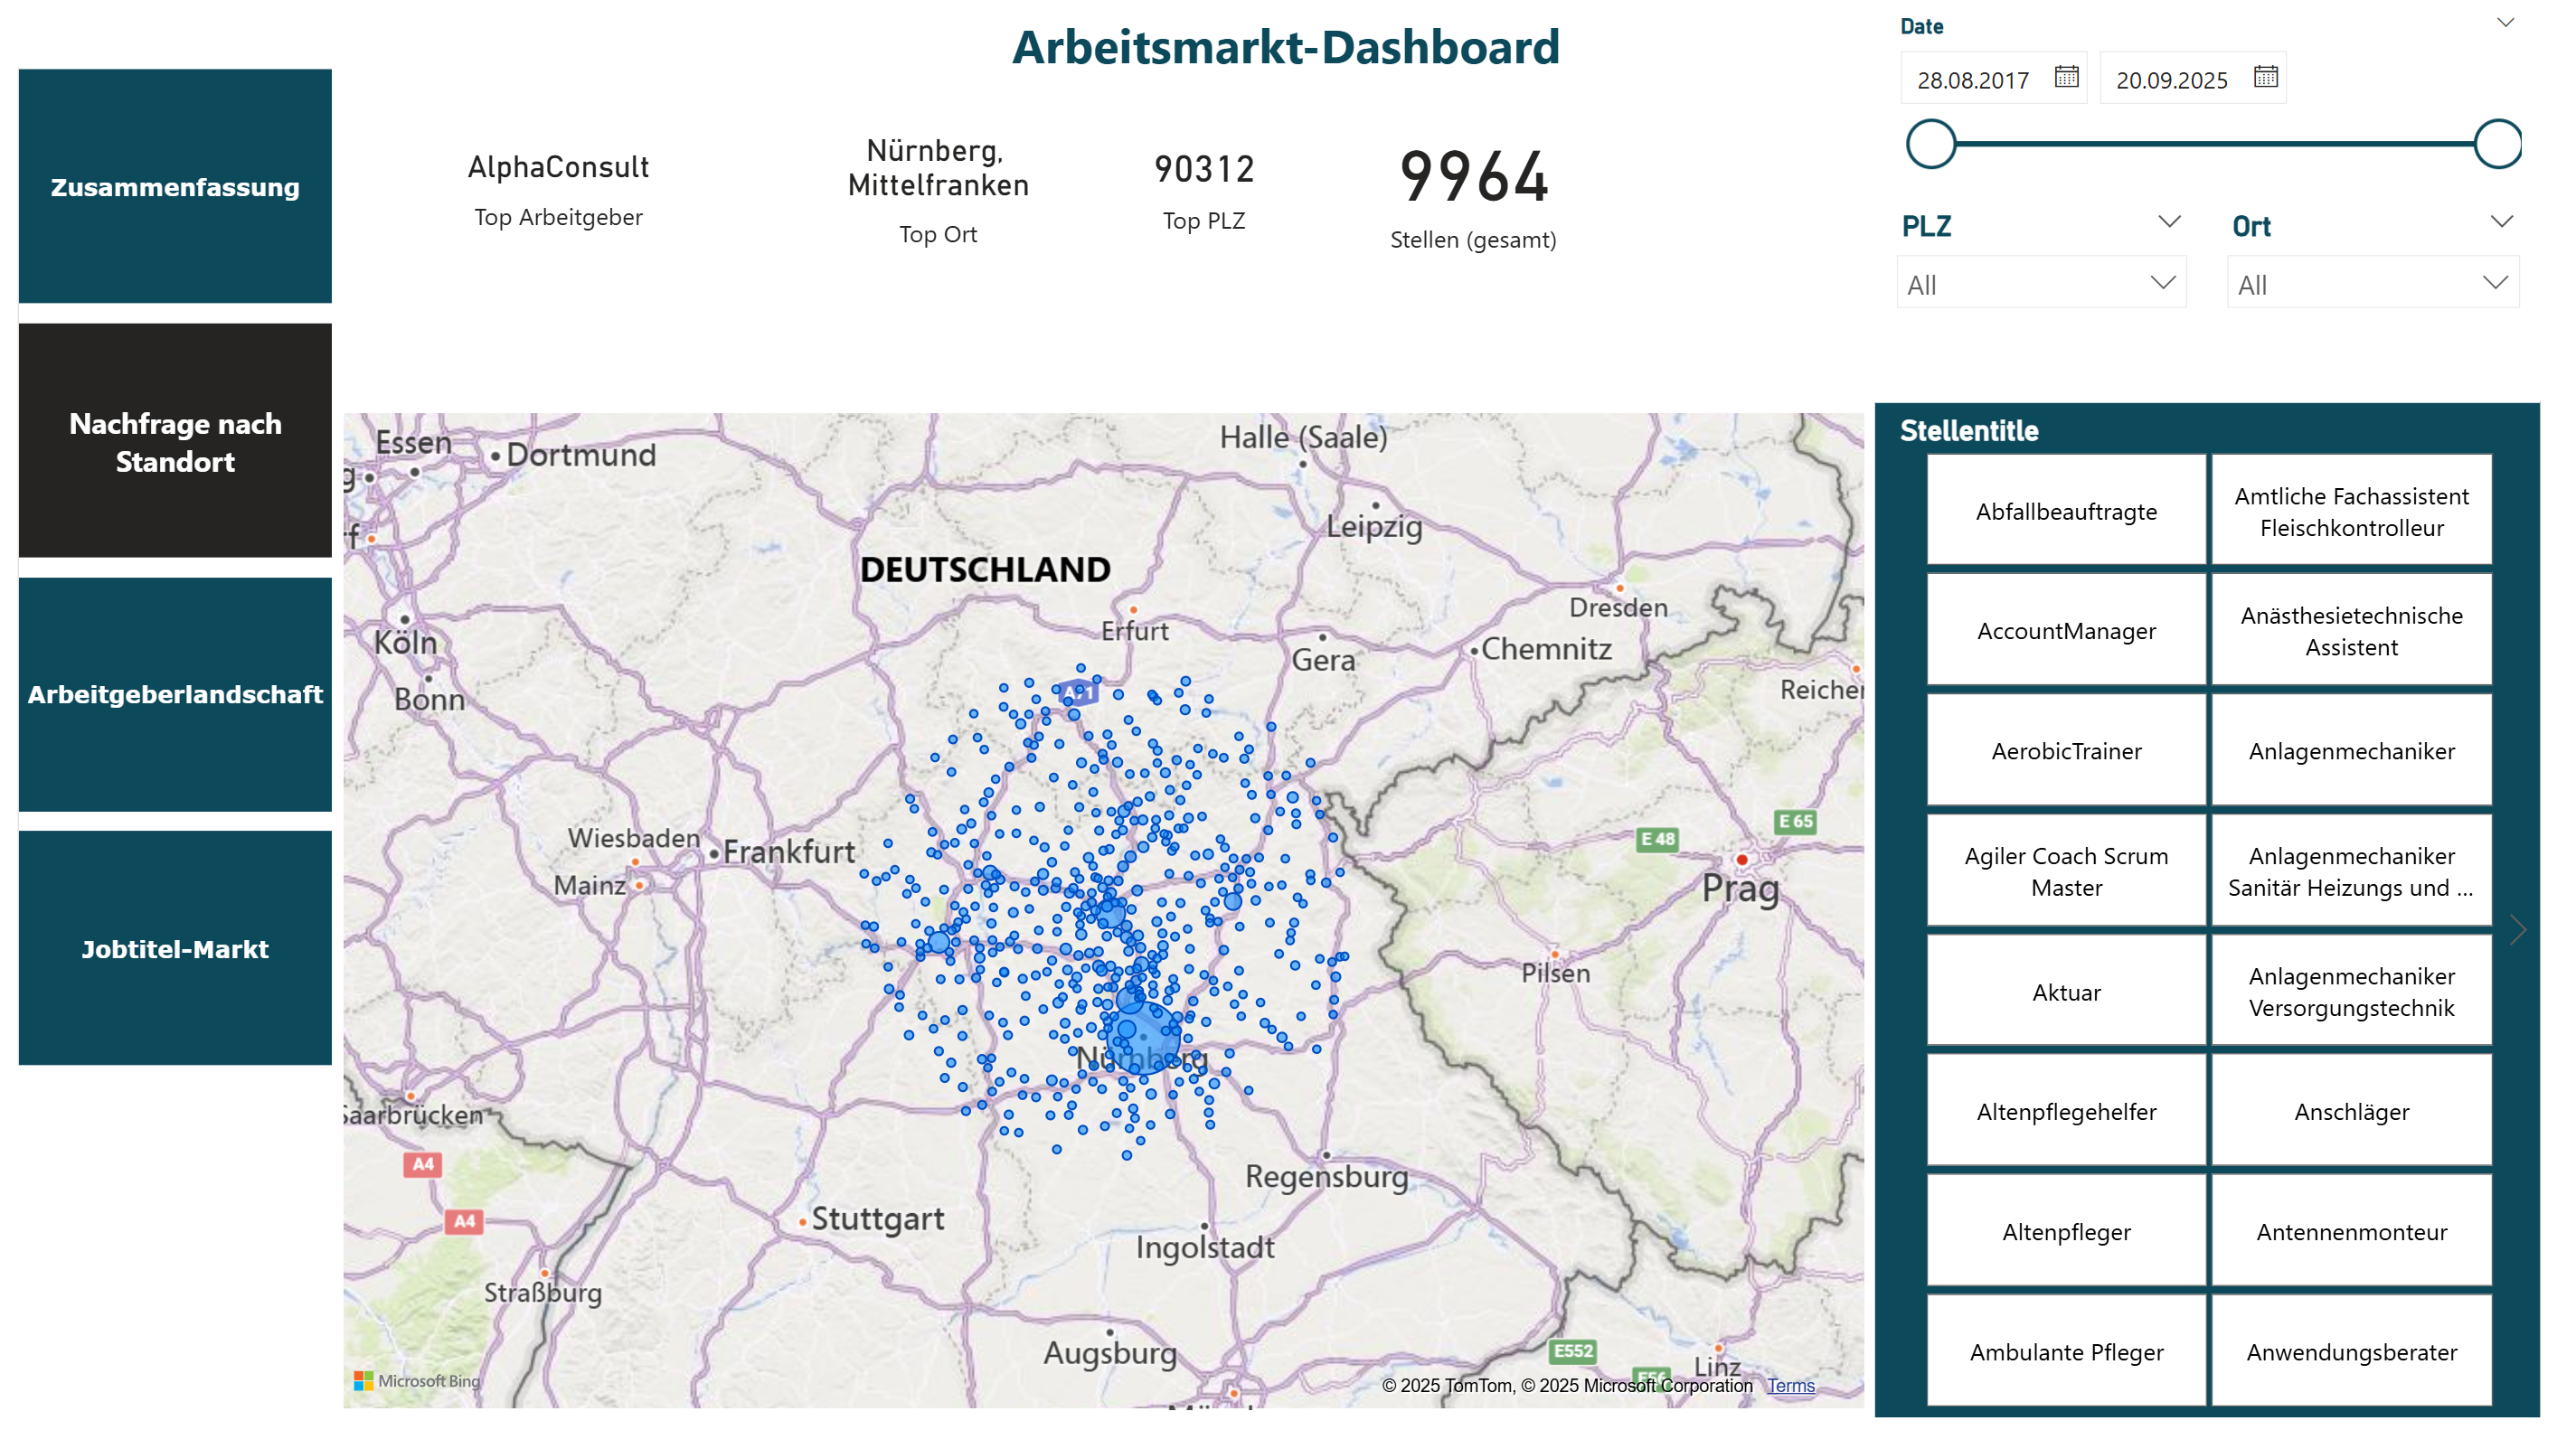

The page's visual inventory and layout, read from the dashboard file:
{"tool":"powerbi","page":{"name":"Nachfrage nach Standort","canvas":[1280,720],"ordinal":1},"visuals":[{"type":"pageNavigator","box":[0,33.7,159.9,506.2],"z":0},{"type":"map","fields":{"Size":["Date.Stellen (gesamt)"],"Category":["bamberg_jobs_enriched.Ort"],"X":["Avg(bamberg_jobs_enriched.Längengrad)"],"Y":["Avg(bamberg_jobs_enriched.Breitengrad)"]},"box":[159.9,203.4,782.3,516.5],"z":1000},{"type":"textbox","box":[418.2,0,451.8,41.8],"z":2000},{"type":"slicer","fields":{"Values":["bamberg_jobs_enriched.Stellentitle"]},"box":[942.2,203.4,337.7,516.5],"z":3000},{"type":"card","fields":{"Values":["bamberg_jobs_enriched.TopPLZ"]},"box":[532.6,52,138.1,79.5],"z":4000},{"type":"card","fields":{"Values":["bamberg_jobs_enriched.TopOrt"]},"box":[382.4,52.2,168.7,79.5],"z":5000},{"type":"card","fields":{"Values":["bamberg_jobs_enriched.TopArbeitgeber"]},"box":[159.9,52,228,79.5],"z":6000},{"type":"slicer","fields":{"Values":["Date.Date"]},"box":[942.2,0,337.7,92.7],"z":7000},{"type":"slicer","fields":{"Values":["bamberg_jobs_enriched.Ort"]},"box":[1111.2,99.6,168.7,78.7],"z":8000},{"type":"slicer","fields":{"Values":["bamberg_jobs_enriched.PLZ"]},"box":[943.2,99.6,167.9,78.7],"z":9000},{"type":"card","title":"Stellen","fields":{"Values":["Count(bamberg_jobs_enriched.refnr)"]},"box":[670.7,52,135.3,80.4],"z":10000}]}

Visuals, with their boxes in screenshot pixels (x1, y1, x2, y2), scaled from the page's 1280x720 canvas onto the 2576x1449 screenshot:
pageNavigator: 0 68 322 1087
map - Date.Stellen (gesamt) x bamberg_jobs_enriched.Ort: 322 409 1896 1448
textbox: 842 0 1750 84
slicer - bamberg_jobs_enriched.Stellentitle: 1896 409 2575 1448
card - bamberg_jobs_enriched.TopPLZ: 1071 105 1350 265
card - bamberg_jobs_enriched.TopOrt: 769 105 1109 265
card - bamberg_jobs_enriched.TopArbeitgeber: 322 105 780 265
slicer - Date.Date: 1896 0 2575 186
slicer - bamberg_jobs_enriched.Ort: 2236 201 2575 359
slicer - bamberg_jobs_enriched.PLZ: 1898 201 2236 359
"Stellen" card: 1350 105 1622 267
